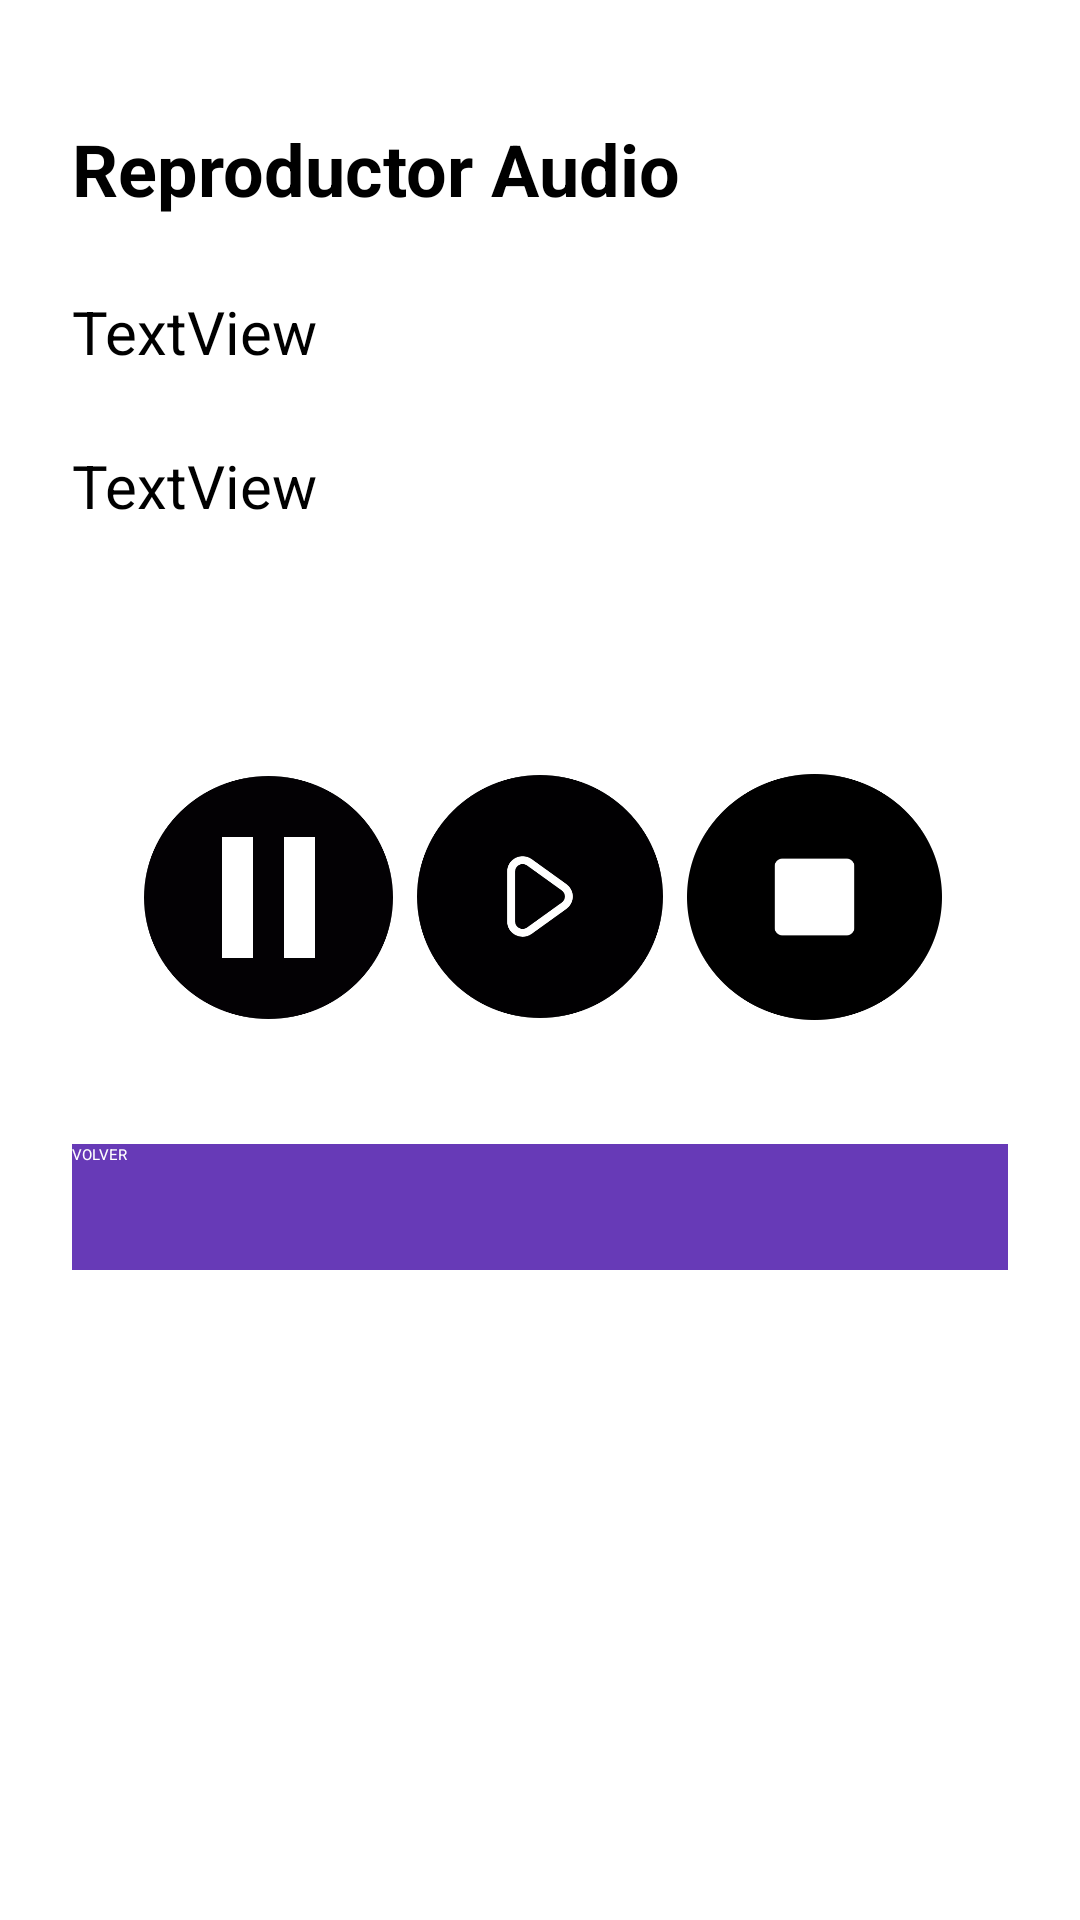

Named icons in this screenshot (1080*1920) and their bounding boxes, (x1, y1, x2, y2):
pausar: (144, 776, 393, 1019)
reproducir: (417, 775, 663, 1018)
